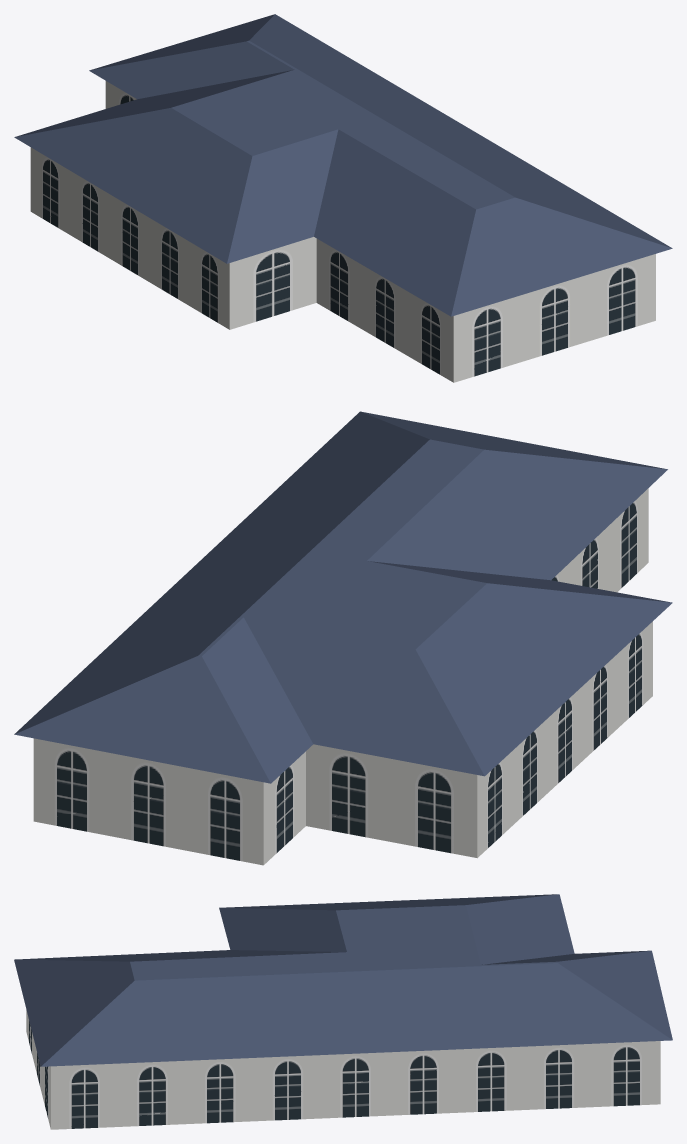
Rendered from nd_whiteblue.glb.
3 views of the same model, one above another, from view 1: azimuth 30°, elevation 25°; view 2: azimuth 150°, elevation 25°; view 3: azimuth 270°, elevation 25° (orthographic). The views are drawn at different scales.
Visible parts, largest first — view 1: nd_whiteblue_lod0; view 2: nd_whiteblue_lod0; view 3: nd_whiteblue_lod0.
Boxes of the visible parts, <box> form: nd_whiteblue_lod0: <box>14,14,672,382</box>; nd_whiteblue_lod0: <box>14,411,672,865</box>; nd_whiteblue_lod0: <box>14,894,672,1129</box>.
Size of what is drawn, in the model's own units: 21.71 by 6.2 by 35.02.
3 materials, 1 textured.
